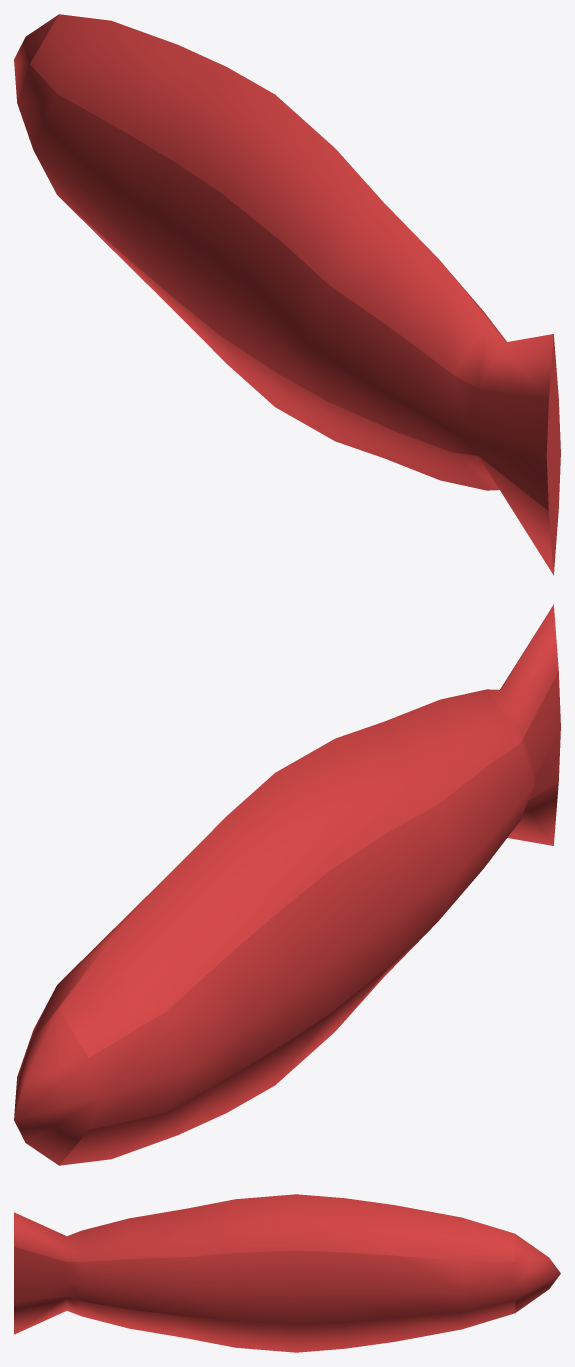
The model's file is Kozakana.fbx.
3 renders of one model, top to bottom at view 1: azimuth 30°, elevation 25°; view 2: azimuth 150°, elevation 25°; view 3: azimuth 270°, elevation 25°, orthographic. The views are drawn at different scales.
Parts seen in each view (by area): view 1: pCube1; view 2: pCube1; view 3: pCube1.
Part boxes in pixels (box(x1,y1,x2,y2)): pCube1: box(14, 14, 560, 575); pCube1: box(14, 604, 560, 1165); pCube1: box(14, 1194, 560, 1352).
Bounding box in the file's own units: 7.48 × 14.28 × 44.69.
